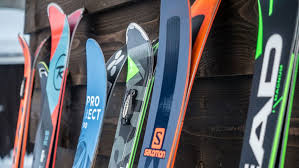skis: (134, 1, 225, 168), (236, 1, 295, 165), (31, 4, 86, 168), (69, 38, 130, 168), (108, 22, 162, 168), (10, 34, 49, 168)
